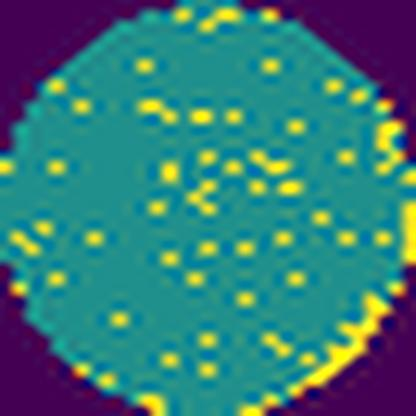Edge-Loc: (289, 288, 396, 398), (401, 194, 415, 269)
